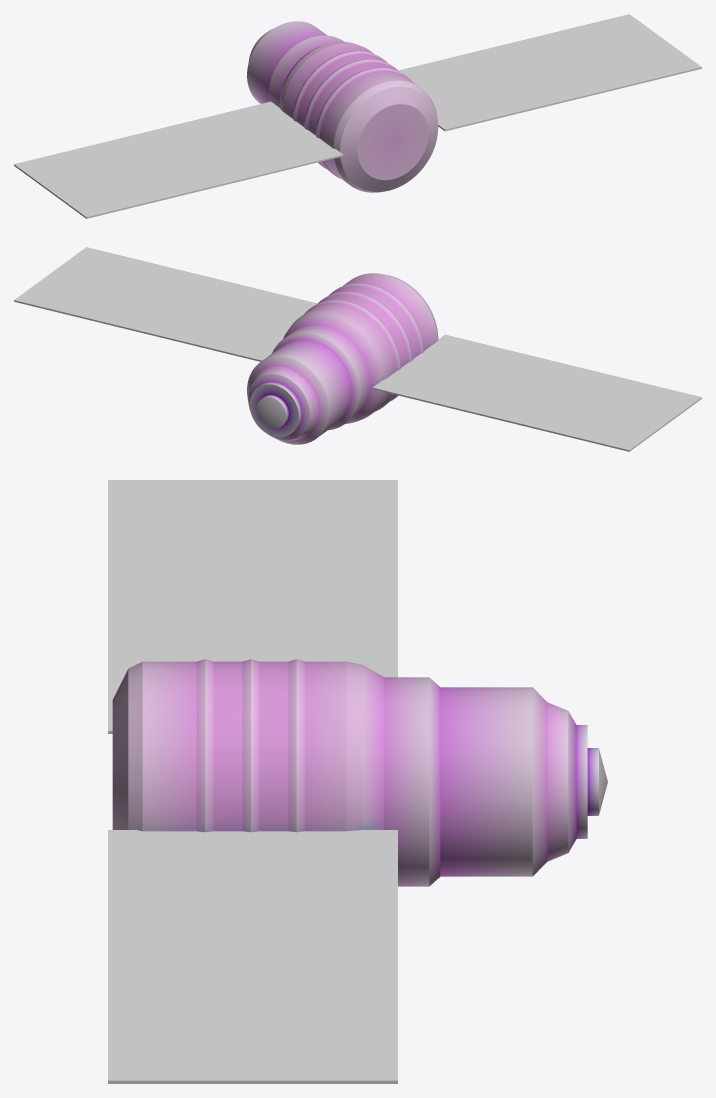
3 renders of one model, top to bottom at view 1: azimuth 30°, elevation 25°; view 2: azimuth 150°, elevation 25°; view 3: azimuth 270°, elevation 25°, orthographic. The views are drawn at different scales.
Parts seen in each view (by area): view 1: stepped_hull, wing.001, wing; view 2: stepped_hull, wing.001, wing; view 3: stepped_hull, wing, wing.001.
Boxes of the visible parts, box(x1,y1,x2,y2) form: stepped_hull: box(247, 21, 438, 192); wing.001: box(14, 101, 343, 218); wing: box(399, 14, 701, 131); stepped_hull: box(247, 273, 438, 444); wing.001: box(372, 334, 701, 451); wing: box(14, 247, 317, 361); stepped_hull: box(112, 659, 607, 886); wing: box(108, 830, 397, 1083); wing.001: box(108, 480, 397, 733).
Bounding box in the file's own units: 40 × 6.92 × 14.07.
